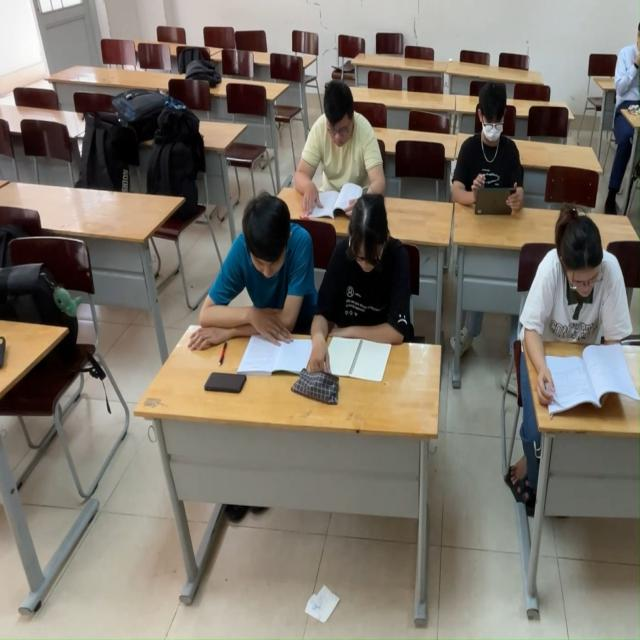read: (204, 196, 310, 404), (544, 206, 639, 421), (329, 201, 414, 404), (458, 74, 524, 231), (311, 79, 357, 219)
